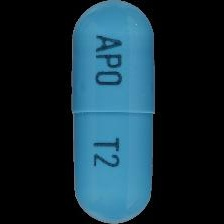60505-2648: (0, 0, 224, 224)
